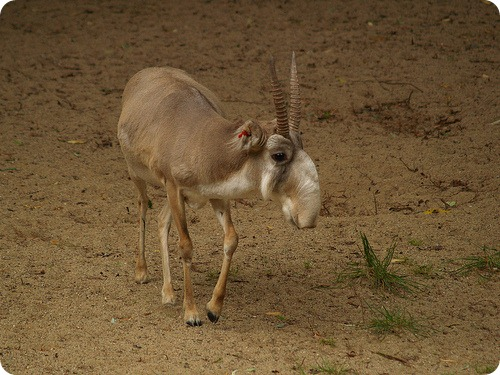saiga: (116, 49, 322, 330)
